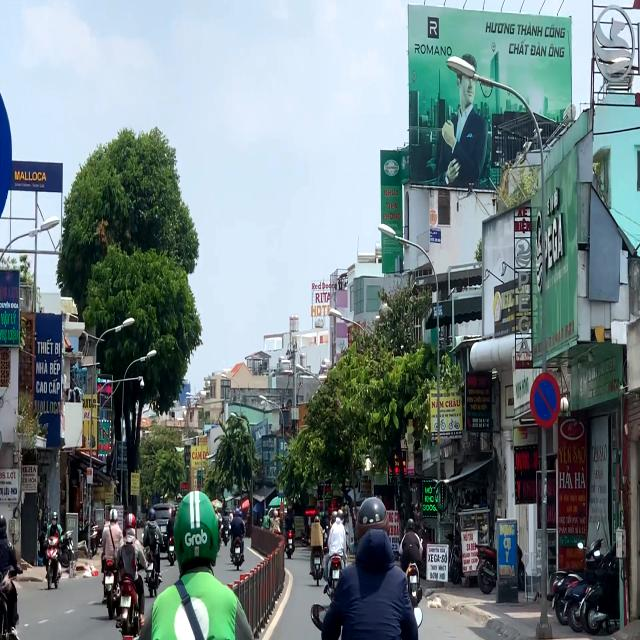P.131a: (529, 371, 562, 430)
